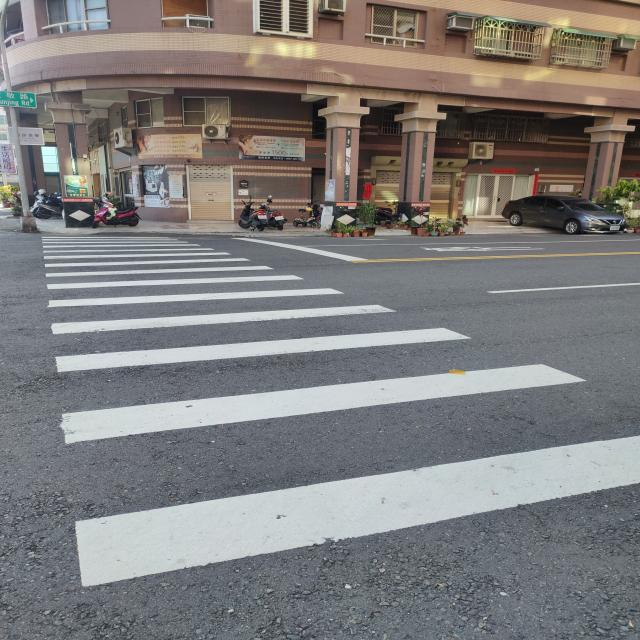zebra_crossing: (548, 316, 640, 549)
